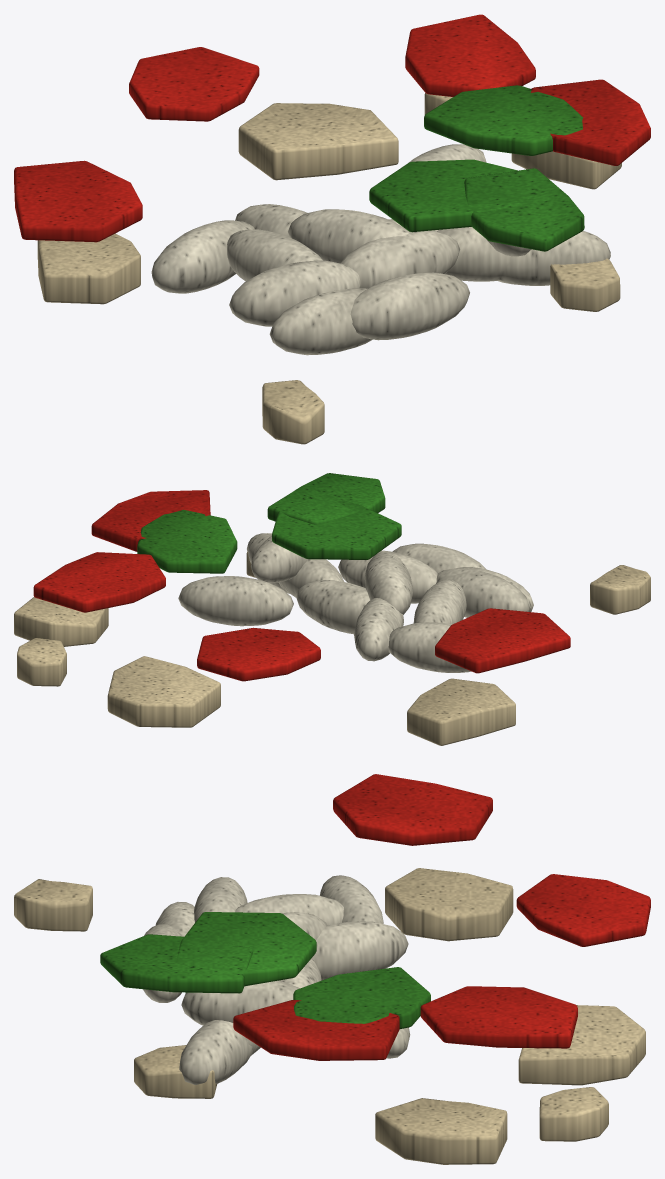
The model's file is food-10-half.glb.
3 renders of one model, top to bottom at view 1: azimuth 30°, elevation 25°; view 2: azimuth 150°, elevation 25°; view 3: azimuth 270°, elevation 25°, orthographic. The views are drawn at different scales.
Parts seen in each view (by area): view 1: Food; view 2: Food; view 3: Food.
Boxes of the visible parts, x1=… form: Food: x1=14, y1=14, x2=650, y2=444; Food: x1=14, y1=473, x2=650, y2=745; Food: x1=14, y1=774, x2=650, y2=1164.
Size of the model in its own units: 0.6258 by 0.1025 by 0.5754.
1 material, 1 textured.
